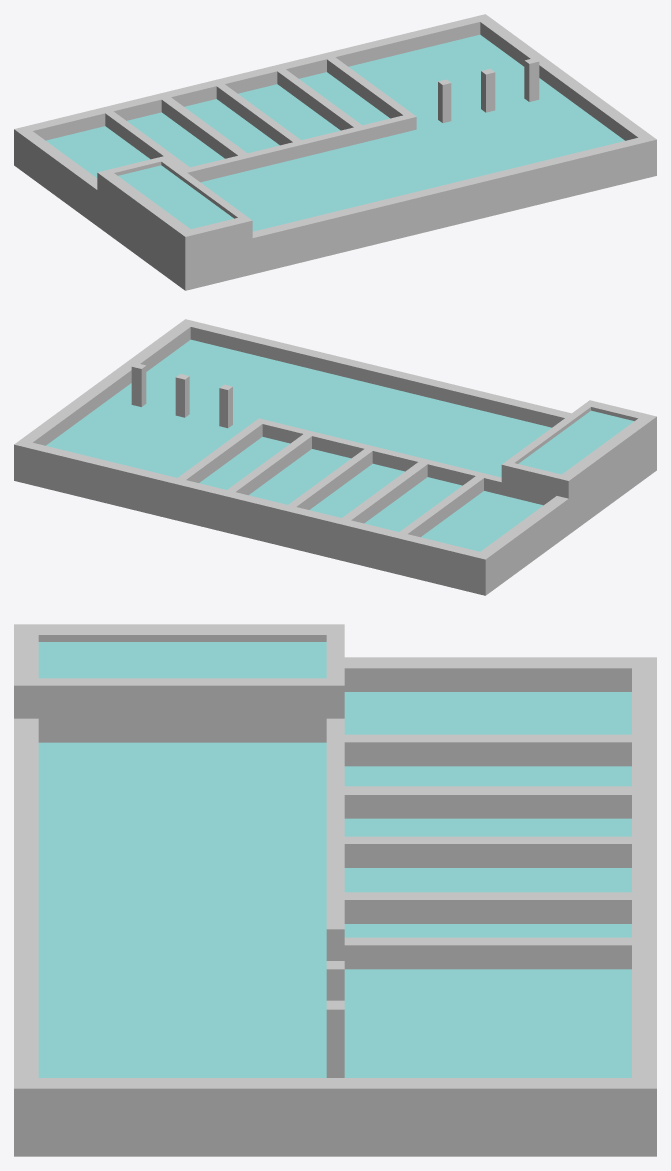
The model's file is tanks_02.fbx.
3 views of the same model, one above another, from view 1: azimuth 30°, elevation 25°; view 2: azimuth 150°, elevation 25°; view 3: azimuth 270°, elevation 25° (orthographic). The views are drawn at different scales.
Visible parts, largest first — view 1: Cube, Cube.001, Cube.002; view 2: Cube, Cube.001, Cube.002; view 3: Cube.001, Cube, Cube.002.
Boxes of the visible parts, left/top/right/bottom form: Cube: left=14, top=14, right=656, bottom=290; Cube.001: left=46, top=34, right=624, bottom=231; Cube.002: left=118, top=165, right=233, bottom=228; Cube: left=14, top=319, right=656, bottom=595; Cube.001: left=46, top=339, right=551, bottom=551; Cube.002: left=518, top=410, right=634, bottom=474; Cube.001: left=38, top=692, right=631, bottom=1077; Cube: left=14, top=624, right=656, bottom=1156; Cube.002: left=38, top=642, right=326, bottom=678.
Bounding box in the file's own units: 426 × 53.28 × 268.
